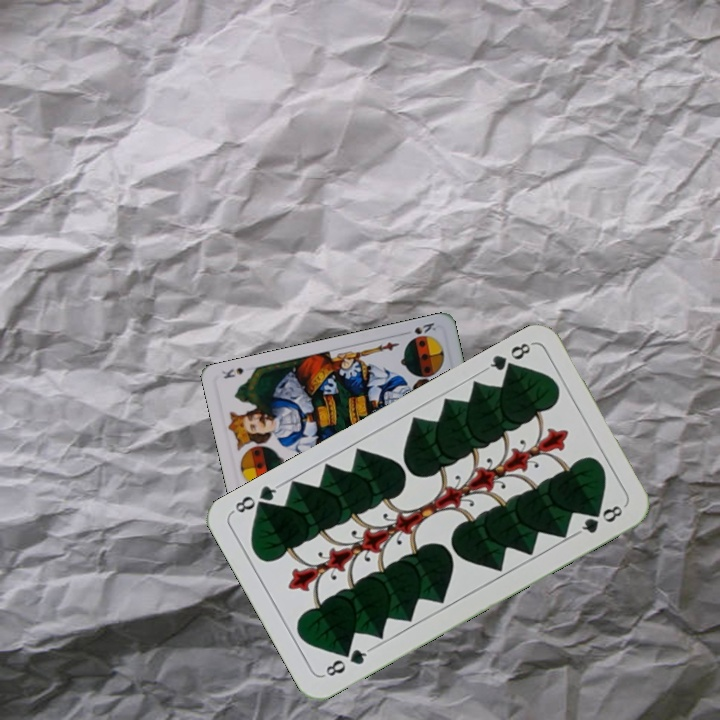G8: (480, 338, 535, 377), (319, 644, 373, 679)
SK: (410, 318, 439, 337)
